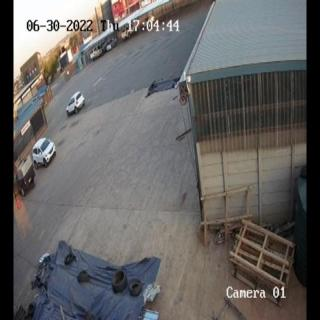car: (13, 156, 36, 195), (32, 138, 55, 168), (66, 92, 84, 115)
